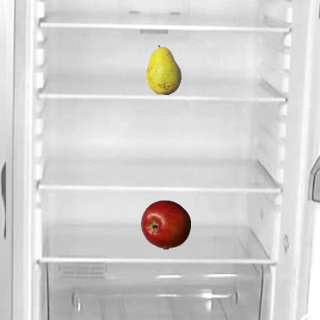Apple Braeburn: (140, 199, 190, 249)
Pear Monster: (138, 44, 188, 94)
